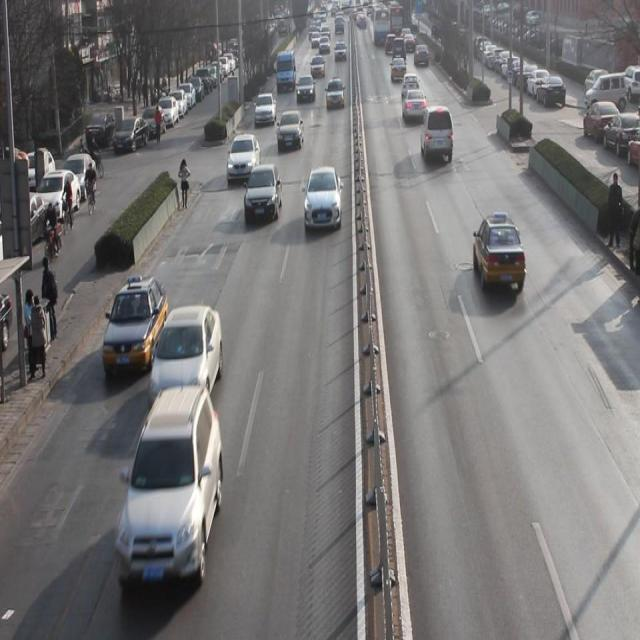car: (121, 396, 223, 588), (152, 308, 223, 410), (103, 277, 170, 372), (473, 212, 526, 299), (304, 168, 343, 235), (246, 164, 281, 225), (227, 133, 260, 183), (276, 111, 304, 153), (402, 84, 426, 122), (253, 92, 276, 126), (325, 79, 345, 109), (296, 75, 316, 104), (401, 72, 419, 100)
truck: (420, 106, 455, 167), (276, 50, 298, 93)
